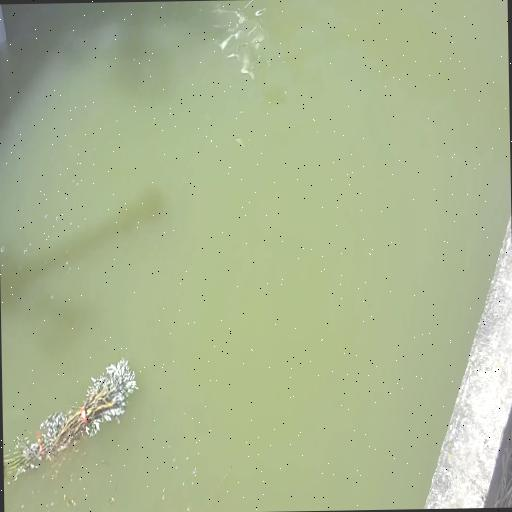twig: (2, 352, 143, 492)
